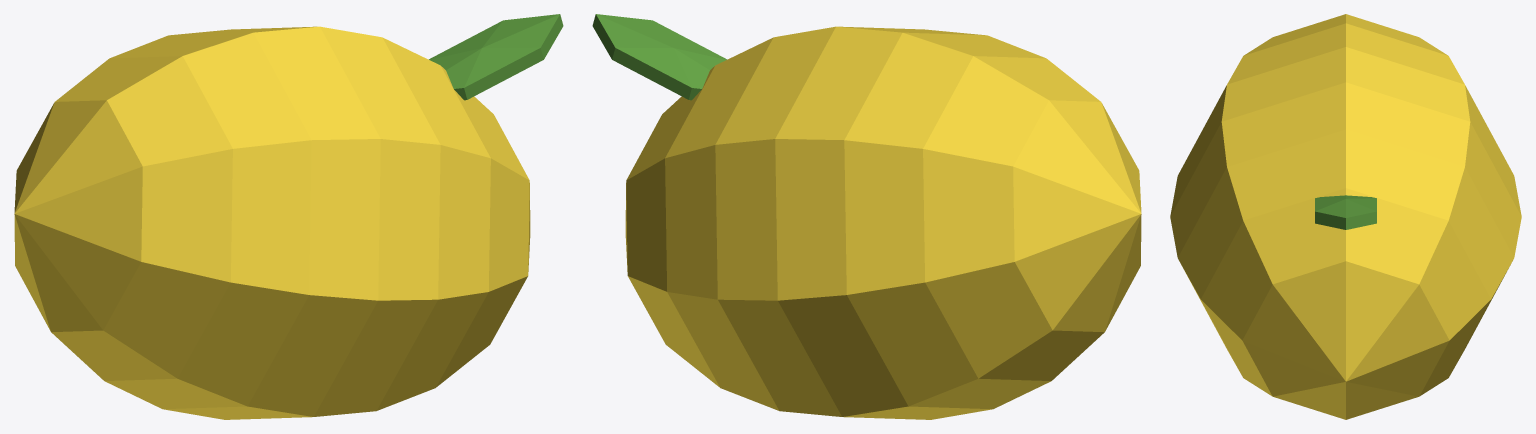
The model's file is Food_Lemon.obj.
3 renders of one model, left to right at view 1: azimuth 30°, elevation 25°; view 2: azimuth 150°, elevation 25°; view 3: azimuth 270°, elevation 25°, orthographic. The views are drawn at different scales.
Bounding box in the file's own units: 2.16 × 1.47 × 1.44.
